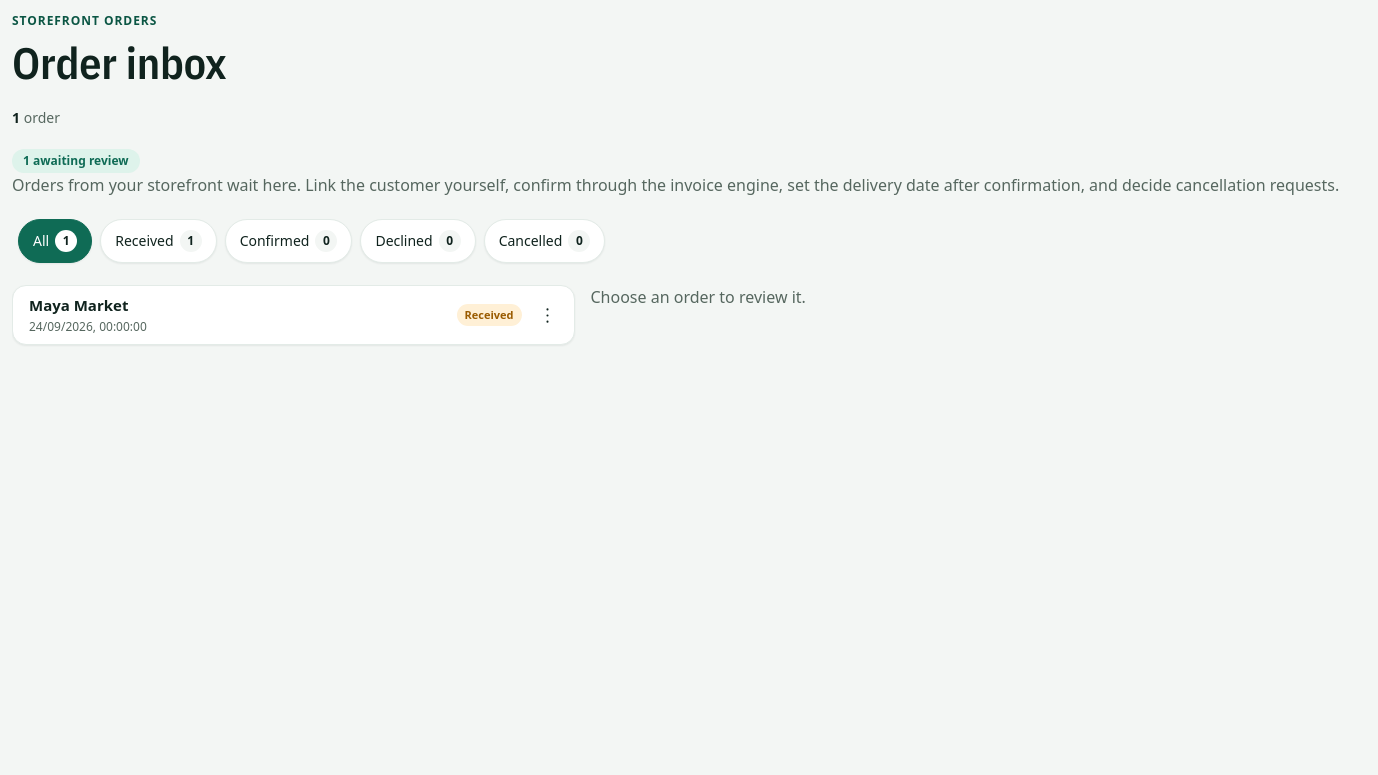
Test: an order placed through a personalized link arrives linked: no customer picking, only review
Click the button "Maya Market 24/09/2026, 00:00:00 Received". click: click(79, 305)
box: [13,286,526,344]
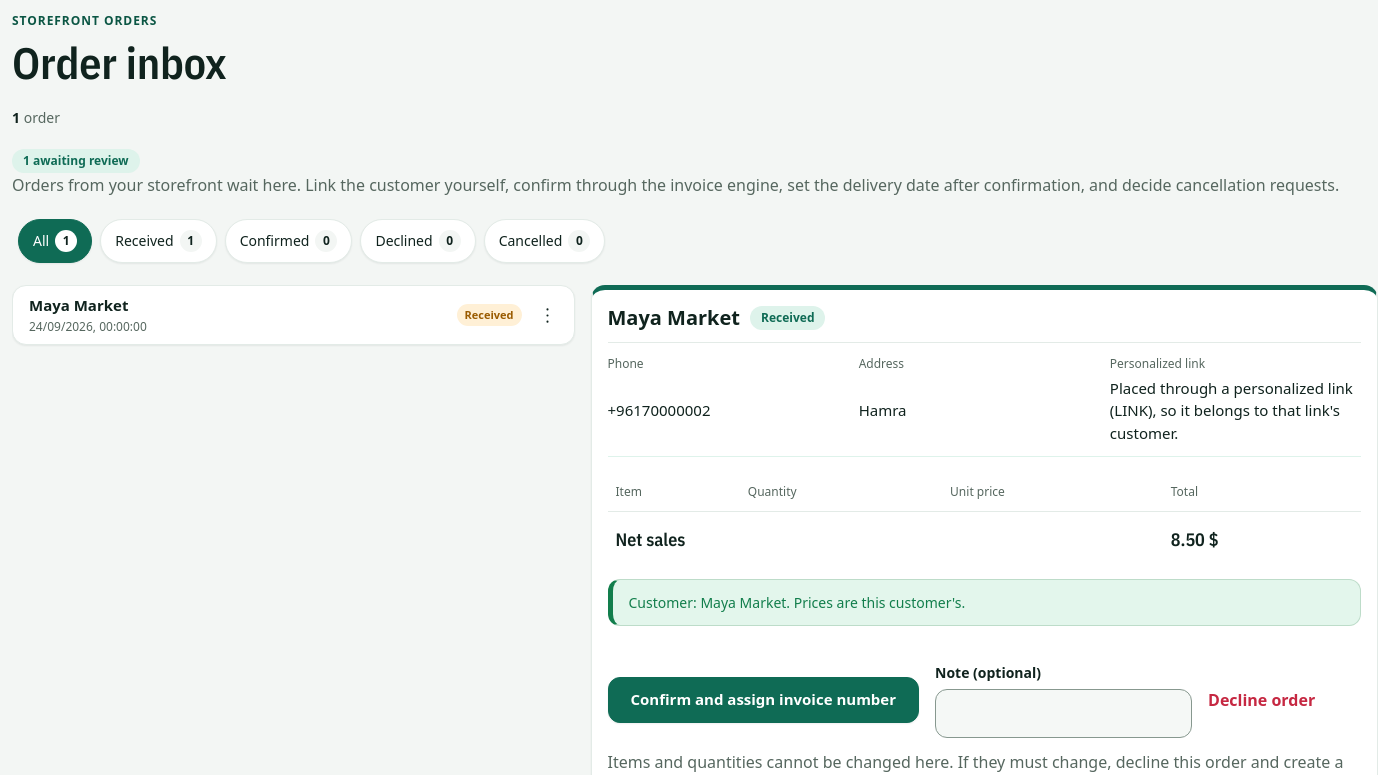
Expected: the text "Customer: Maya Market. Prices are this customer's." is shown, [608,579,1361,626]
Expected: the button "Confirm and assign invoice number" is enabled, [608,677,919,723]
